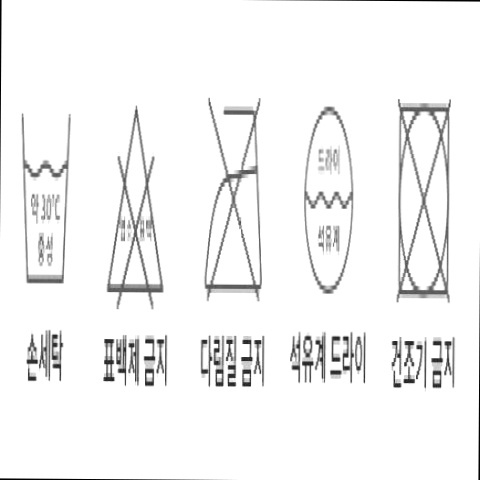30C: (15, 108, 82, 292)
DN_iron: (198, 93, 280, 310)
DN_tumble_dry: (386, 97, 459, 308)
dry_clean_petrol_only: (293, 108, 367, 298)
non_chlorine_bleach: (100, 103, 174, 313)
